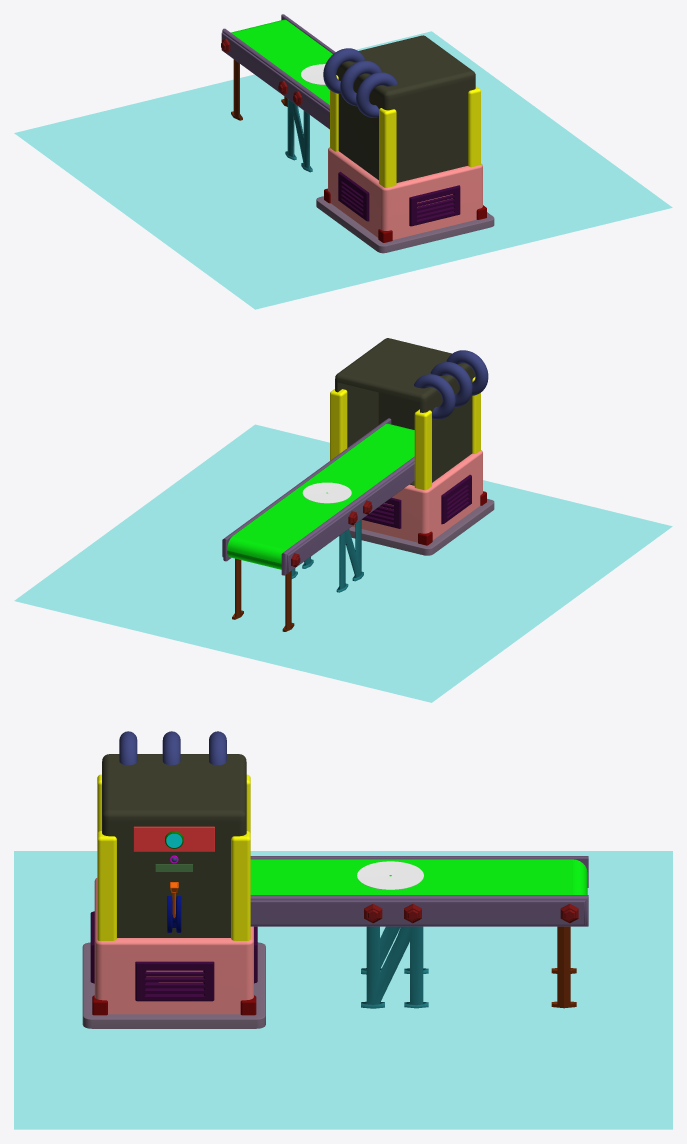
The picture shows the model from 3 angles, top to bottom: view 1: azimuth 30°, elevation 25°; view 2: azimuth 150°, elevation 25°; view 3: azimuth 270°, elevation 25°; orthographic projection. The views are drawn at different scales.
Parts seen in each view (by area): view 1: Floor_01, MachineBody_Top, MachineBody_Bottom, Belt, Side_PlateCover_02, Machine_Base, Vent_02, Top_Corner_04, Leg_Double_02, Top_Corner_02, Vent_04, Pipe_01 (+3 smaller); view 2: Floor_01, MachineBody_Top, Belt, MachineBody_Bottom, Side_PlateCover_02, Machine_Base, Top_Corner_03, Top_Corner_01, Leg_Double_02, Vent_04, Pipe_03, Side_PlateCover_01 (+5 smaller); view 3: Floor_01, MachineBody_Top, Belt, Side_PlateCover_01, MachineBody_Bottom, Machine_Base, Leg_Double_01, Vent_03, Top_Corner_02, Top_Corner_01, Gauge_Holder_BackPlate, Vinyl_Cd_V2 (+4 smaller).
Boxes of the visible parts, left/top/right/bottom form: Floor_01: left=14, top=31, right=672, bottom=309; MachineBody_Top: left=336, top=35, right=475, bottom=182; MachineBody_Bottom: left=328, top=147, right=482, bottom=239; Belt: left=231, top=19, right=332, bottom=104; Side_PlateCover_02: left=221, top=28, right=329, bottom=129; Machine_Base: left=316, top=196, right=494, bottom=253; Vent_02: left=409, top=185, right=460, bottom=226; Top_Corner_04: left=379, top=108, right=396, bottom=187; Leg_Double_02: left=285, top=99, right=312, bottom=172; Top_Corner_02: left=468, top=86, right=480, bottom=167; Vent_04: left=338, top=171, right=369, bottom=221; Pipe_01: left=356, top=72, right=397, bottom=117; Floor_01: left=14, top=424, right=672, bottom=702; MachineBody_Top: left=335, top=338, right=475, bottom=485; Belt: left=227, top=423, right=414, bottom=569; MachineBody_Bottom: left=352, top=450, right=482, bottom=542; Side_PlateCover_02: left=281, top=456, right=414, bottom=575; Machine_Base: left=349, top=499, right=494, bottom=555; Top_Corner_03: left=414, top=409, right=431, bottom=490; Top_Corner_01: left=330, top=389, right=347, bottom=460; Leg_Double_02: left=336, top=519, right=363, bottom=592; Vent_04: left=441, top=474, right=471, bottom=524; Pipe_03: left=414, top=374, right=455, bottom=419; Side_PlateCover_01: left=222, top=418, right=391, bottom=561; Floor_01: left=14, top=851, right=672, bottom=1129; MachineBody_Top: left=102, top=754, right=246, bottom=937; Belt: left=250, top=859, right=587, bottom=894; Side_PlateCover_01: left=250, top=895, right=588, bottom=926; MachineBody_Bottom: left=94, top=878, right=253, bottom=1014; Machine_Base: left=82, top=942, right=265, bottom=1028; Leg_Double_01: left=361, top=926, right=428, bottom=1008; Vent_03: left=135, top=961, right=214, bottom=1001; Top_Corner_02: left=97, top=831, right=116, bottom=940; Top_Corner_01: left=231, top=831, right=250, bottom=940; Gauge_Holder_BackPlate: left=133, top=826, right=214, bottom=851; Vinyl_Cd_V2: left=357, top=861, right=423, bottom=889.
Size of the model in its own units: 507 by 192 by 507.
